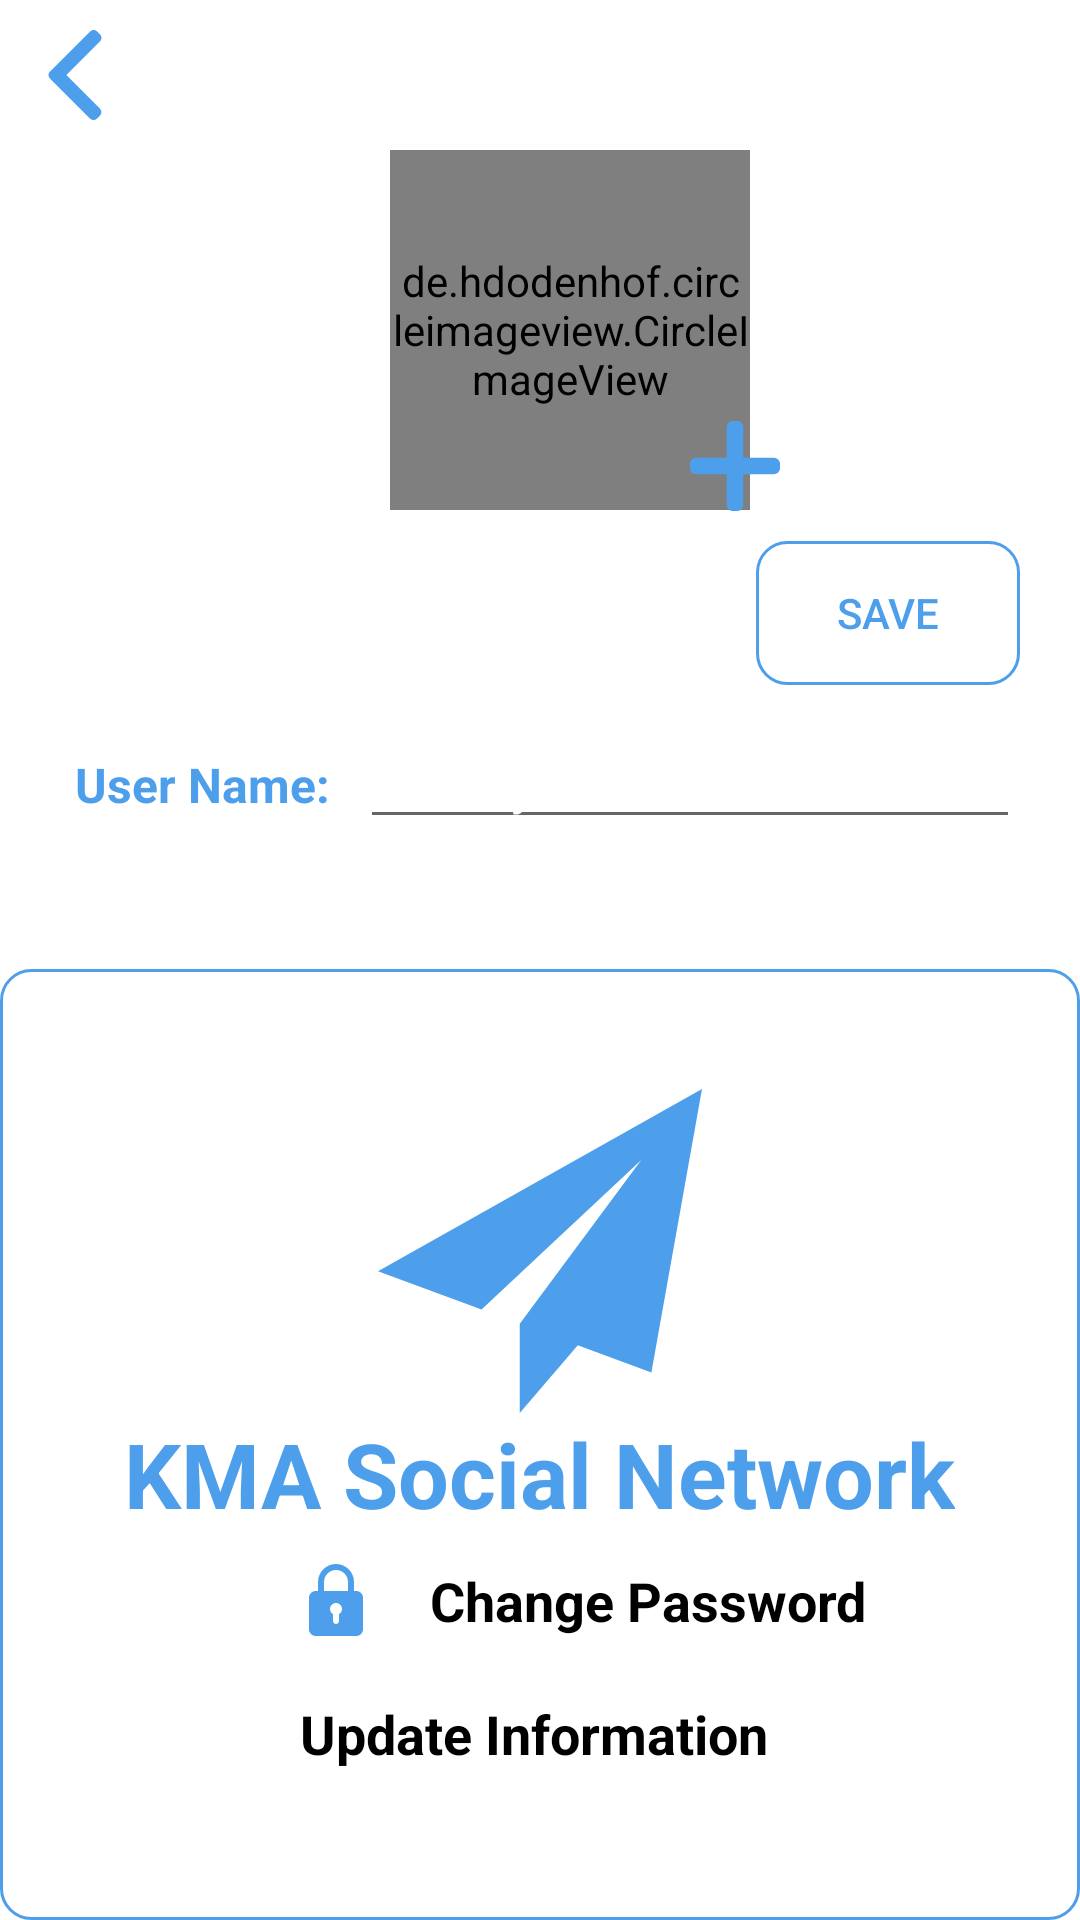

Named icons in this screenshot (1080x1920) and their centers, point (x, y):
add: point (735, 466)
left arrow: point (75, 75)
send: point (540, 1251)
